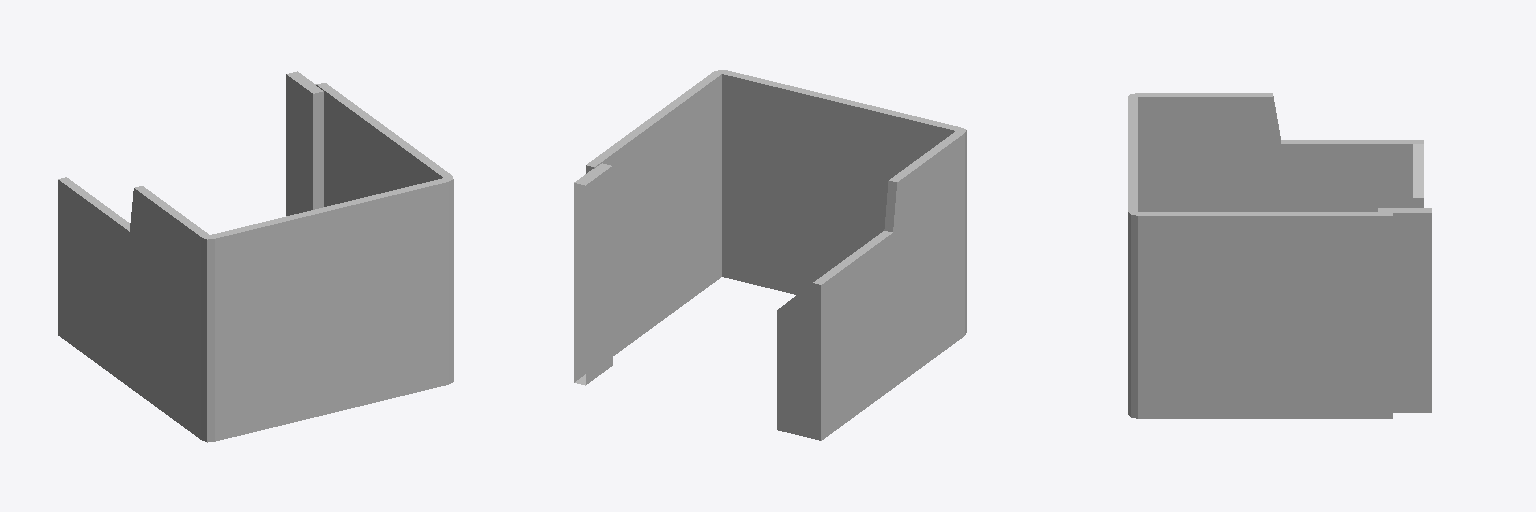
The model's file is CP3ShieldMesh.obj.
The picture shows the model from 3 angles: view 1: azimuth 30°, elevation 25°; view 2: azimuth 150°, elevation 25°; view 3: azimuth 270°, elevation 25°; orthographic projection.
Parts seen in each view (by area): view 1: polySurface78; view 2: polySurface78; view 3: polySurface78.
Part boxes in pixels (x1,y1,x2,y2): polySurface78: (58, 71, 453, 442); polySurface78: (574, 70, 966, 440); polySurface78: (1128, 93, 1431, 418).
Bounding box in the file's own units: 15.82 × 12.2 × 16.58.